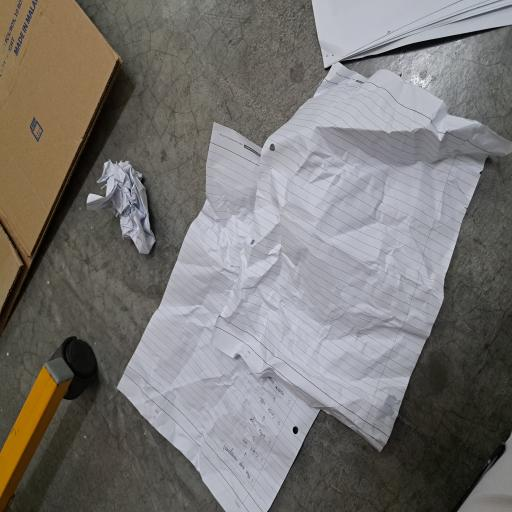cardboard: (130, 0, 384, 169)
paper: (0, 155, 293, 429), (42, 281, 339, 512), (194, 115, 266, 208), (332, 414, 384, 512)
